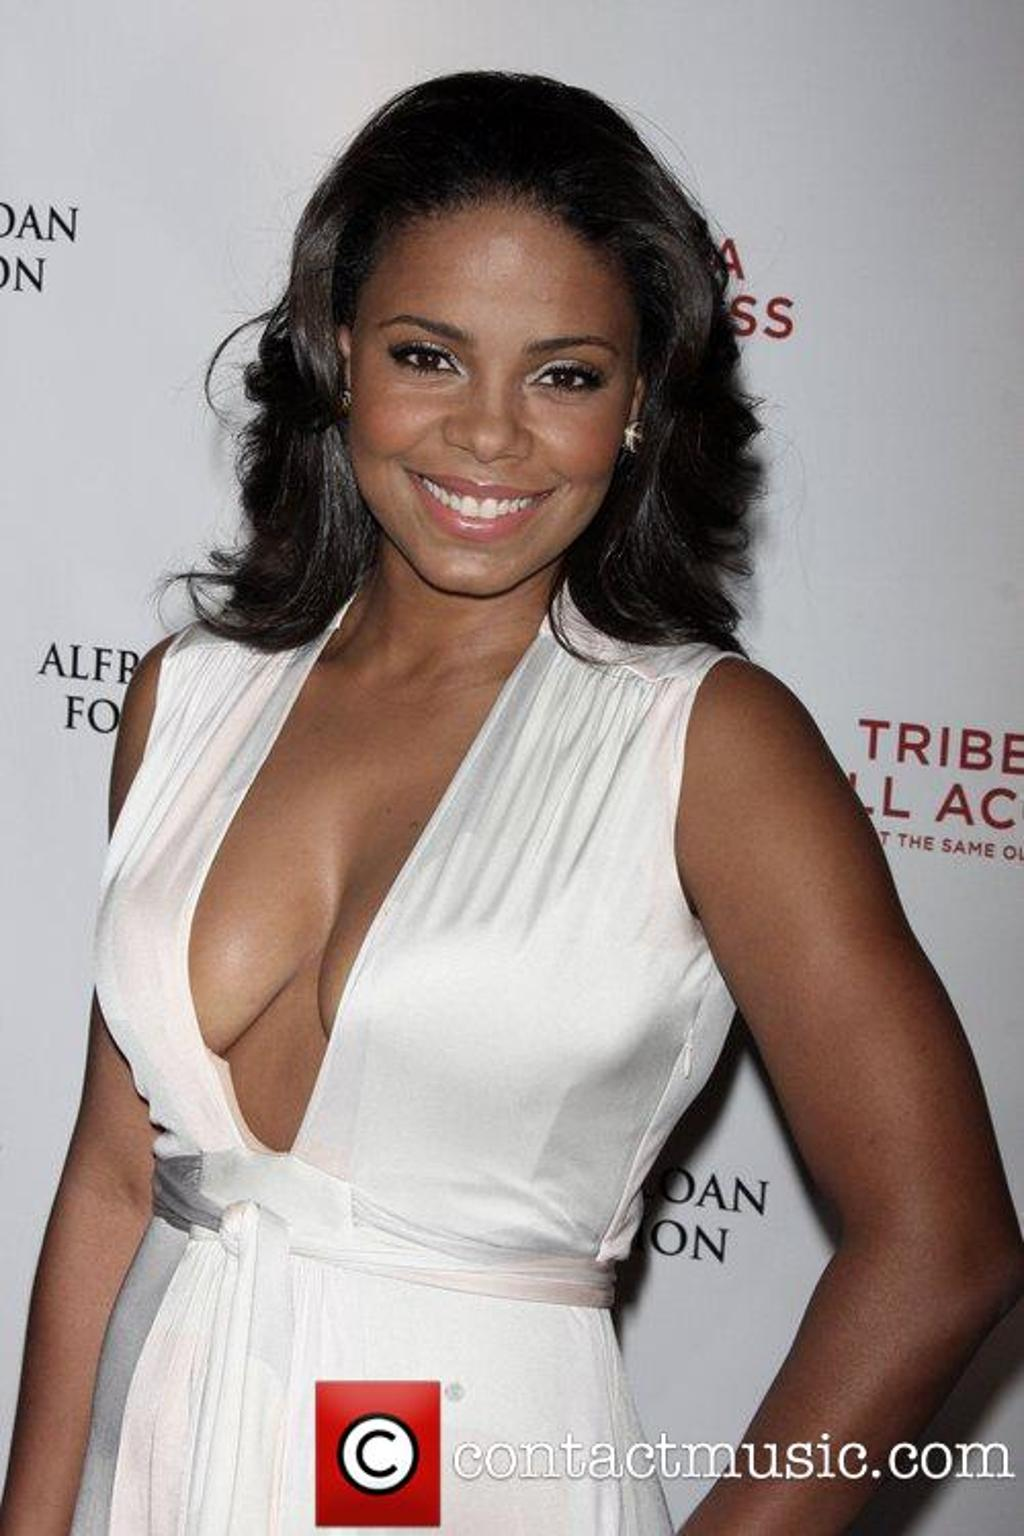face: (345, 192, 633, 591)
